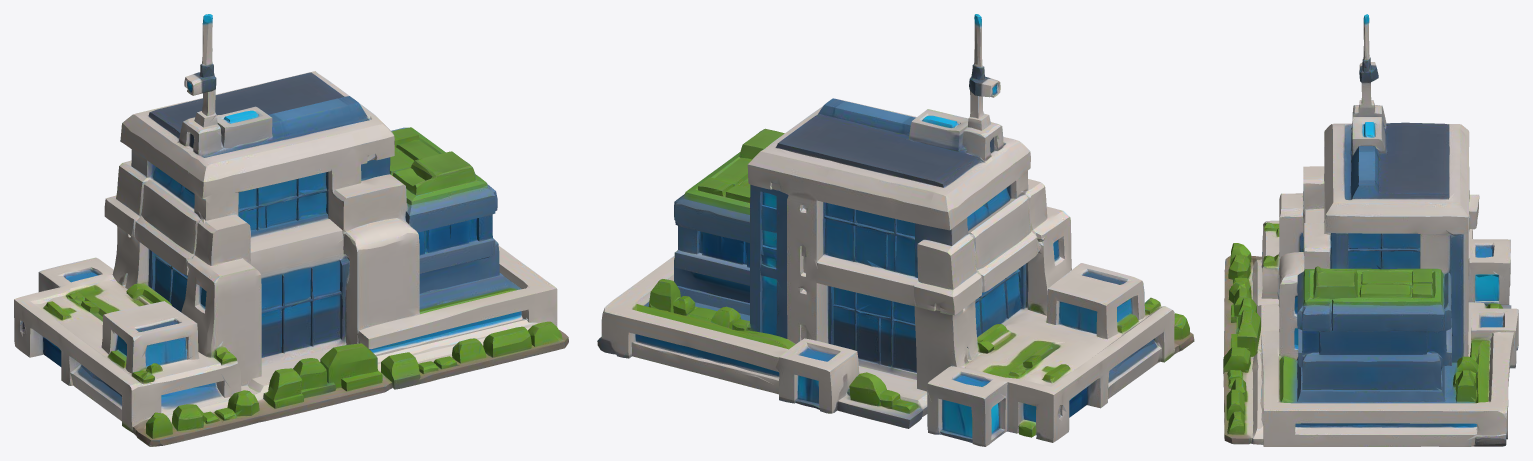
3 views of the same model, side by side, from view 1: azimuth 30°, elevation 25°; view 2: azimuth 150°, elevation 25°; view 3: azimuth 270°, elevation 25° (orthographic). The views are drawn at different scales.
Parts seen in each view (by area): view 1: Mesh; view 2: Mesh; view 3: Mesh.
Part boxes in pixels (box(x1,y1,x2,y2)): Mesh: box(14, 14, 568, 446); Mesh: box(597, 14, 1194, 446); Mesh: box(1223, 14, 1518, 446).
Bounding box in the file's own units: 1.89 × 1.44 × 1.26.
Materials: 1 (1 with a texture image).
